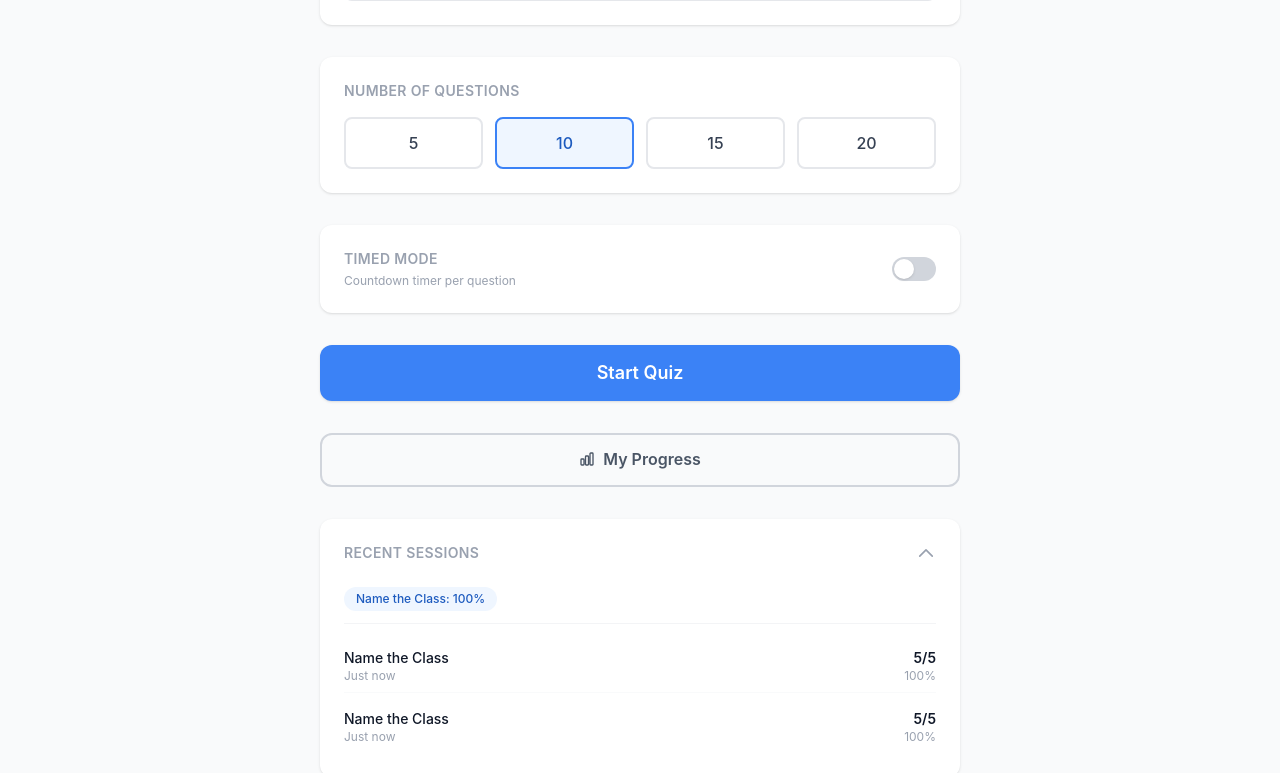
App › shows Exit button during quiz
This screenshot has width=1280, height=773.
(page scrolled)
Click the button "Start Quiz" at (640,373), box x1=320 y1=345 x2=960 y2=401
(page scrolled)
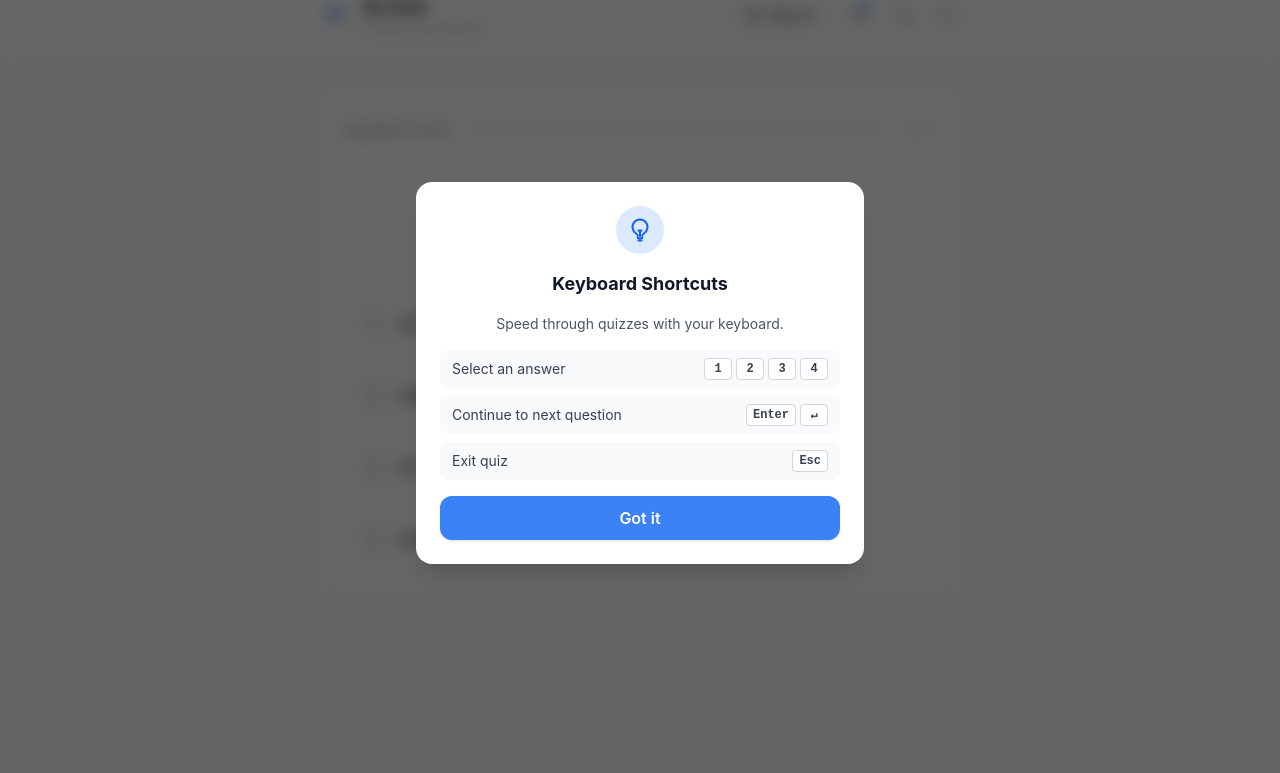
expect the text "simvastatin" is shown: met, box x1=555 y1=218 x2=725 y2=254
